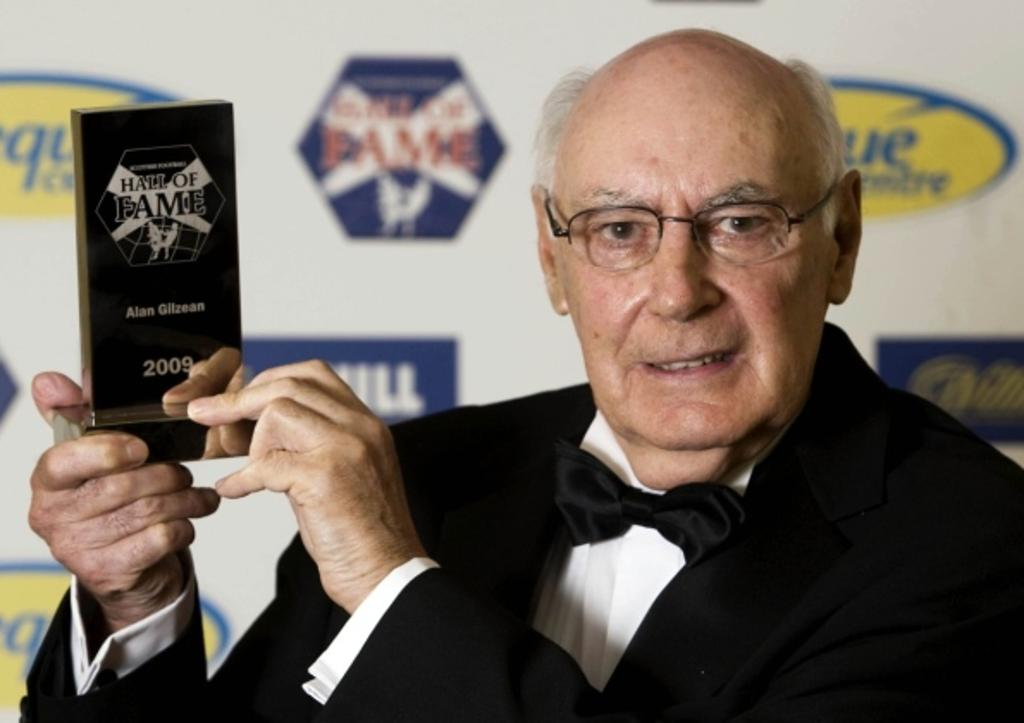face: (560, 72, 834, 448)
